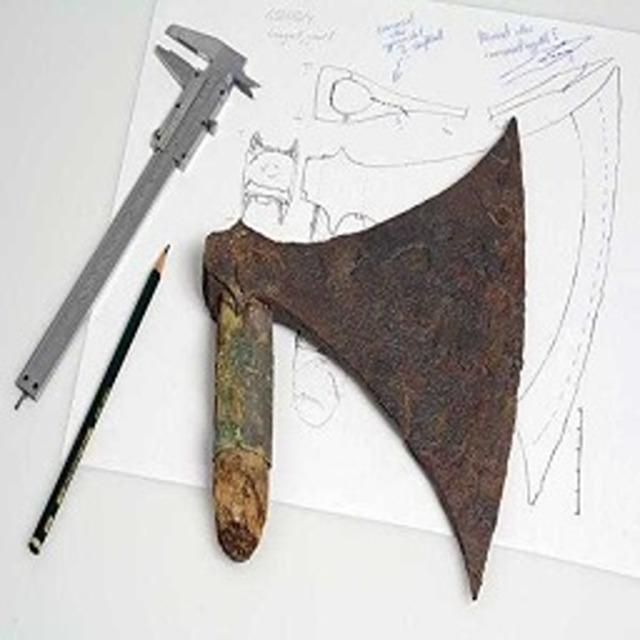ax: (186, 108, 540, 612)
